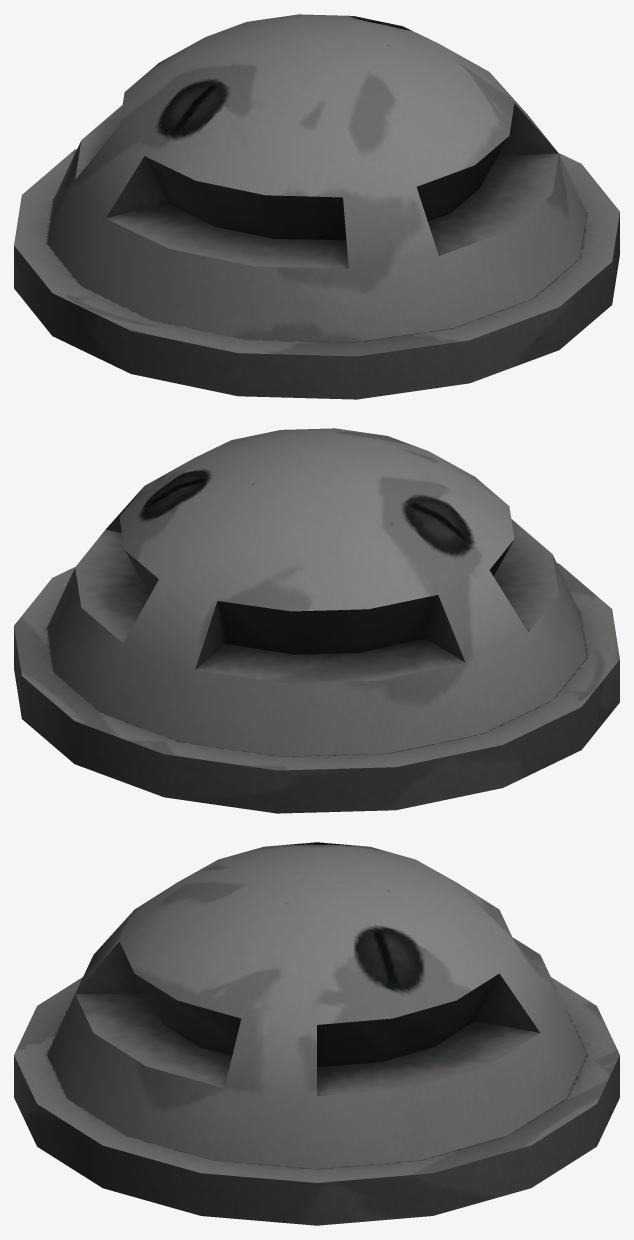
File: hologram_projector.glb
3 renders of one model, top to bottom at view 1: azimuth 30°, elevation 25°; view 2: azimuth 150°, elevation 25°; view 3: azimuth 270°, elevation 25°, orthographic.
Visible parts, largest first — view 1: hologram_projector; view 2: hologram_projector; view 3: hologram_projector.
Boxes of the visible parts, x1,y1,x2,y2 form: hologram_projector: (14, 14, 619, 399); hologram_projector: (14, 428, 619, 813); hologram_projector: (14, 842, 619, 1225).
Bounding box in the file's own units: 0.275 × 0.1153 × 0.275.
Materials: 1 (1 with a texture image).
